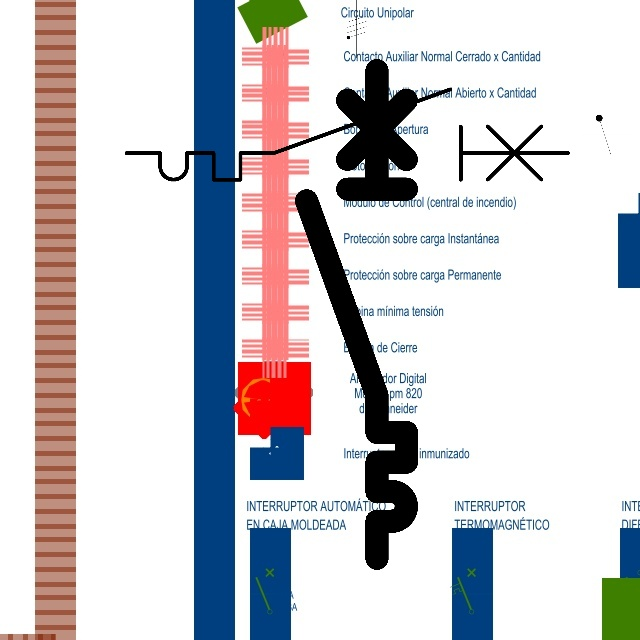interruptor_termomagnetico: (294, 58, 419, 571), (115, 78, 579, 191)
